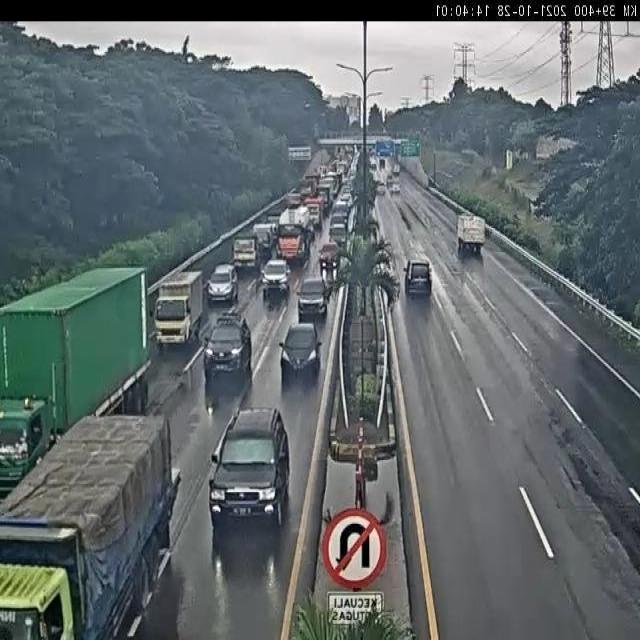Car: (199, 400, 300, 548), (202, 310, 254, 384), (279, 321, 322, 384), (296, 274, 329, 320), (260, 258, 292, 302), (207, 264, 239, 305), (404, 258, 432, 298)
Truck: (1, 409, 177, 640), (0, 268, 147, 452), (0, 558, 76, 640), (1, 395, 53, 502), (153, 269, 204, 348), (204, 362, 248, 414), (276, 206, 313, 265), (457, 215, 485, 258), (232, 237, 259, 275), (252, 222, 277, 262), (372, 259, 394, 302), (302, 197, 324, 235), (330, 194, 351, 232), (334, 248, 352, 289), (318, 242, 339, 274), (323, 171, 342, 201), (329, 220, 348, 249), (302, 171, 322, 198), (374, 252, 392, 277), (316, 185, 331, 211), (366, 212, 380, 239), (527, 198, 544, 218), (341, 190, 355, 214), (267, 215, 281, 239), (298, 180, 313, 200), (285, 191, 301, 209), (270, 201, 284, 219), (348, 160, 358, 182), (436, 170, 456, 181), (386, 158, 396, 178), (388, 180, 400, 195), (336, 162, 346, 179), (342, 145, 353, 160), (373, 177, 383, 190), (330, 160, 339, 174), (369, 159, 377, 174), (392, 162, 400, 176), (319, 165, 328, 177), (428, 174, 436, 187), (377, 184, 385, 196), (368, 144, 376, 156), (387, 175, 393, 187), (380, 158, 385, 169), (354, 146, 359, 156)
